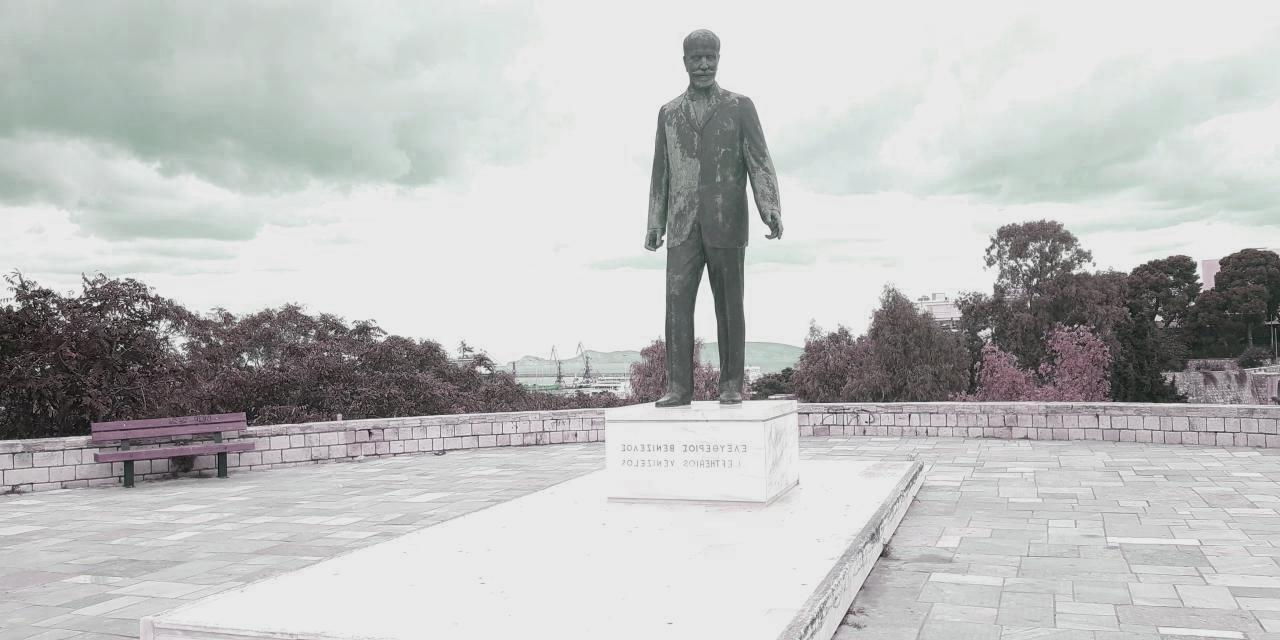Venizelos: (648, 30, 783, 413)
